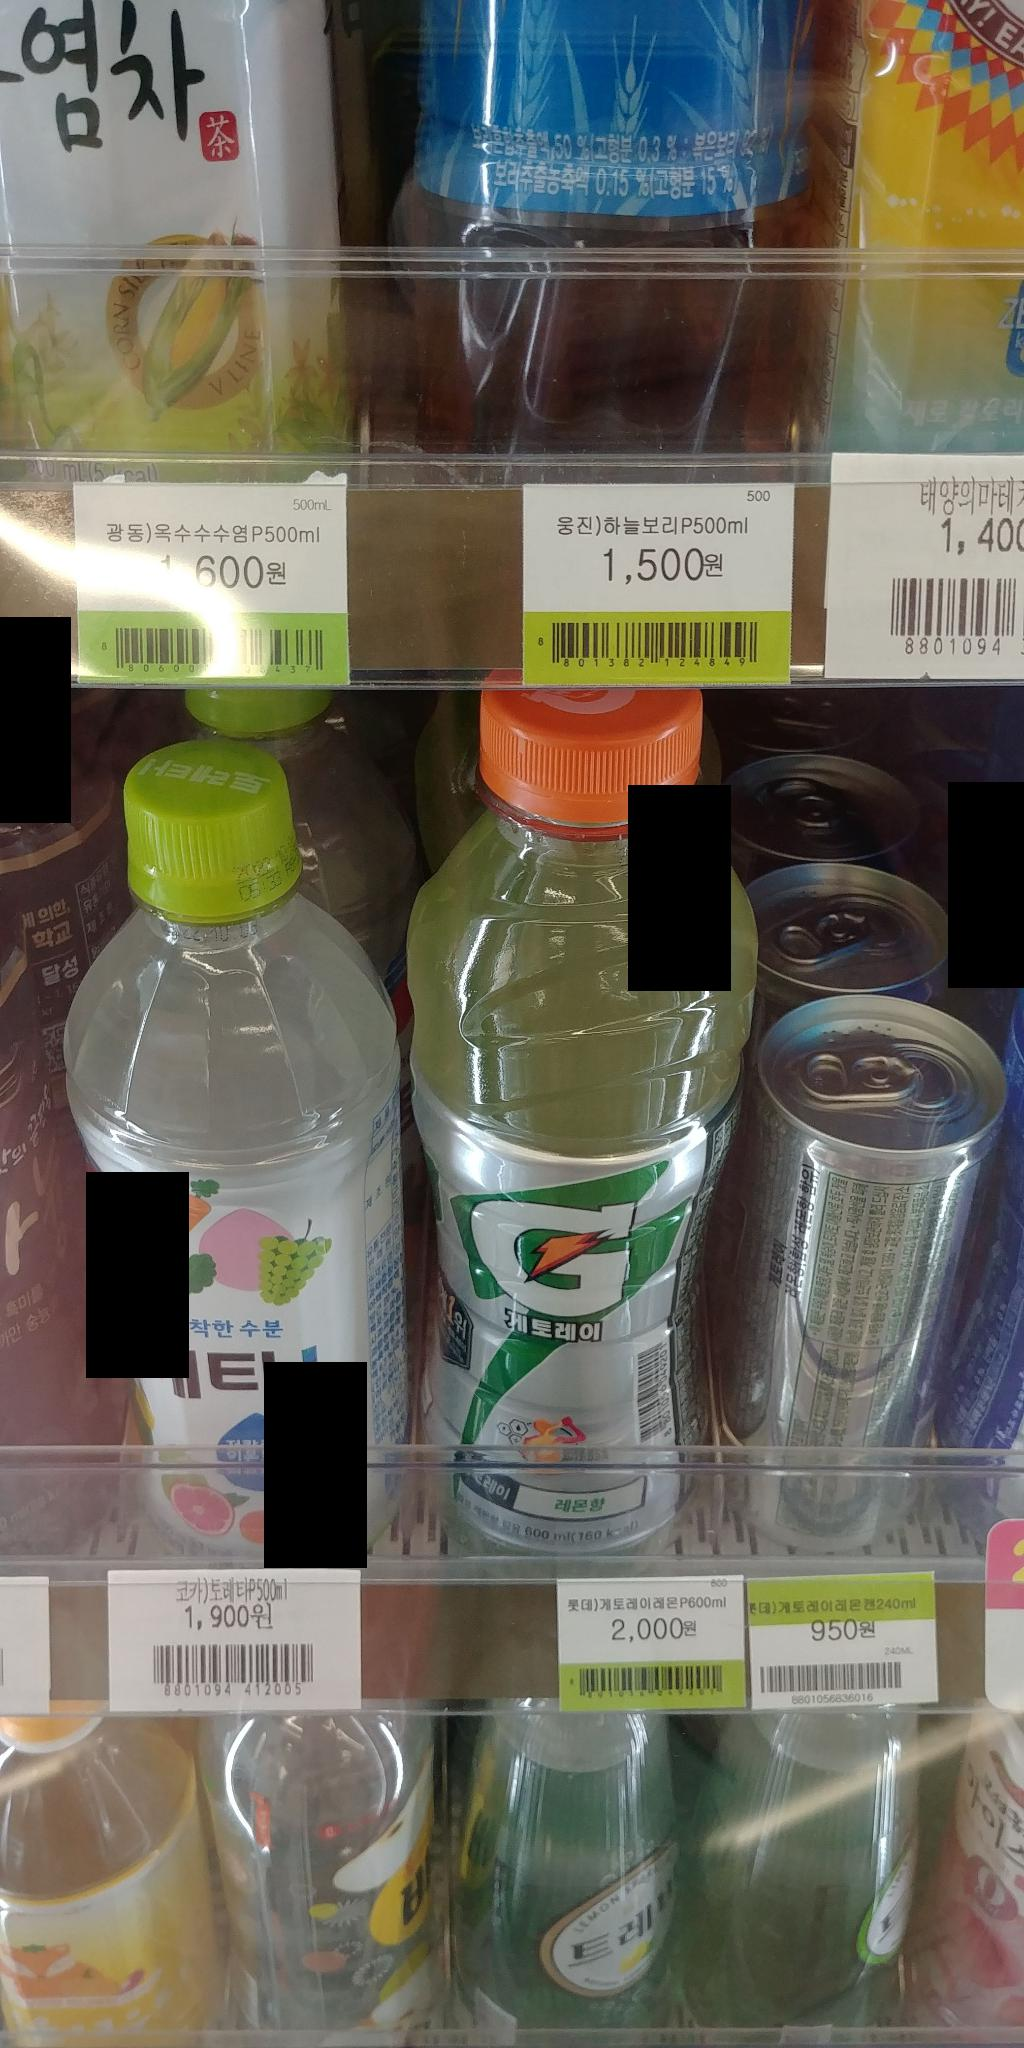gatorade_lemon: (364, 662, 743, 1562)
toreta: (47, 738, 413, 1552)
